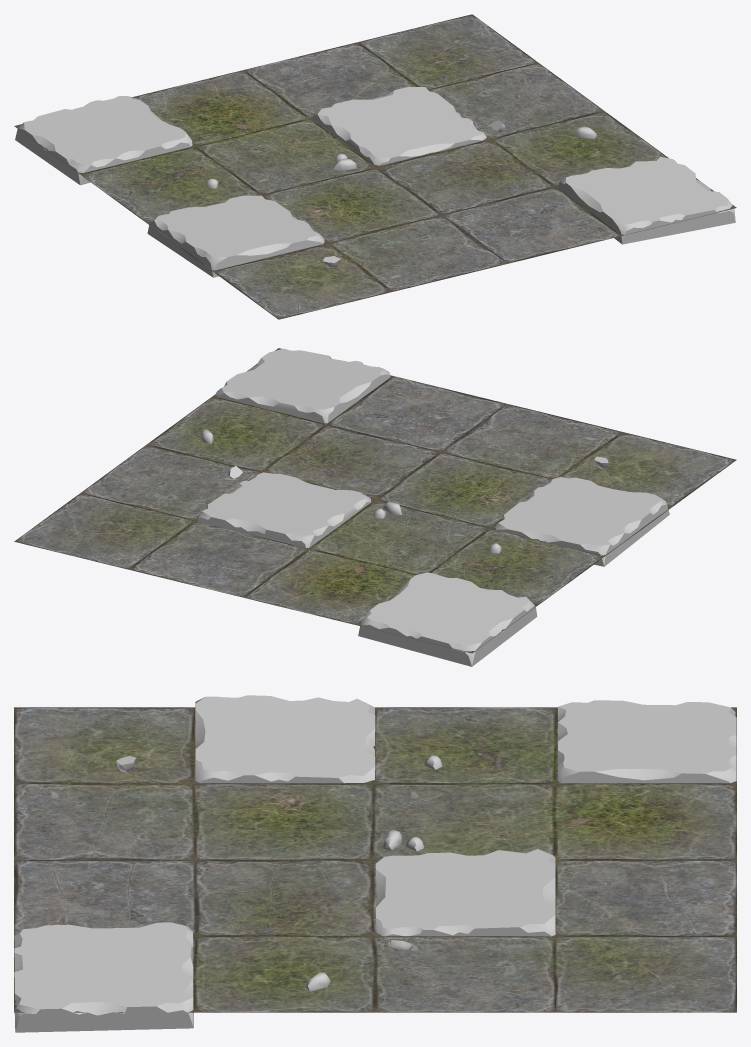
The model's file is Floor_Lvl2_4.fbx.
The picture shows the model from 3 angles, top to bottom: view 1: azimuth 30°, elevation 25°; view 2: azimuth 150°, elevation 25°; view 3: azimuth 270°, elevation 25°; orthographic projection. The views are drawn at different scales.
Visible parts, largest first — view 1: StoneFloor.003, StoneFloor_Details.002; view 2: StoneFloor.003, StoneFloor_Details.002; view 3: StoneFloor.003, StoneFloor_Details.002.
Boxes of the visible parts, x1=… form: StoneFloor.003: x1=14, y1=14, x2=736, y2=319; StoneFloor_Details.002: x1=15, y1=87, x2=735, y2=277; StoneFloor.003: x1=14, y1=348, x2=736, y2=653; StoneFloor_Details.002: x1=196, y1=348, x2=669, y2=666; StoneFloor.003: x1=14, y1=707, x2=736, y2=1012; StoneFloor_Details.002: x1=14, y1=695, x2=736, y2=1032.
Size of the model in its own units: 382 by 20.6 by 382.
